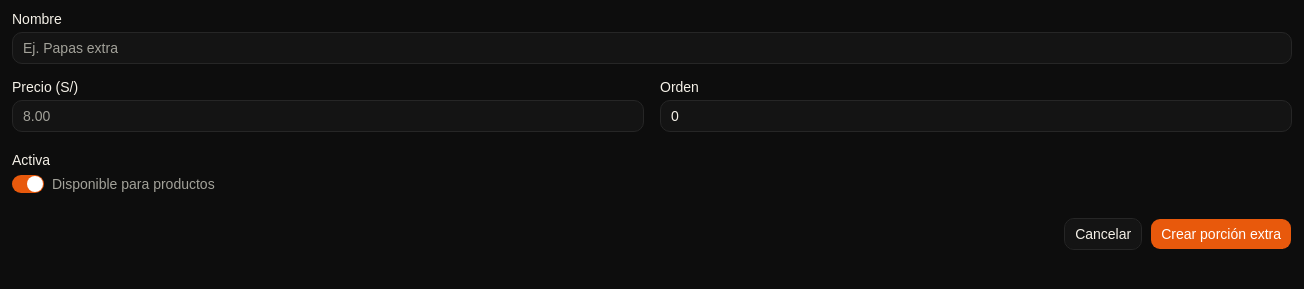
Test: ExtraPortionForm › rechaza un precio negativo escrito directamente (bypass del spinner nativo)
The image size is (1304, 289).
Type "Guacamole extra" into the field labelled "Nombre" at (652, 48), box [12, 32, 1292, 64]
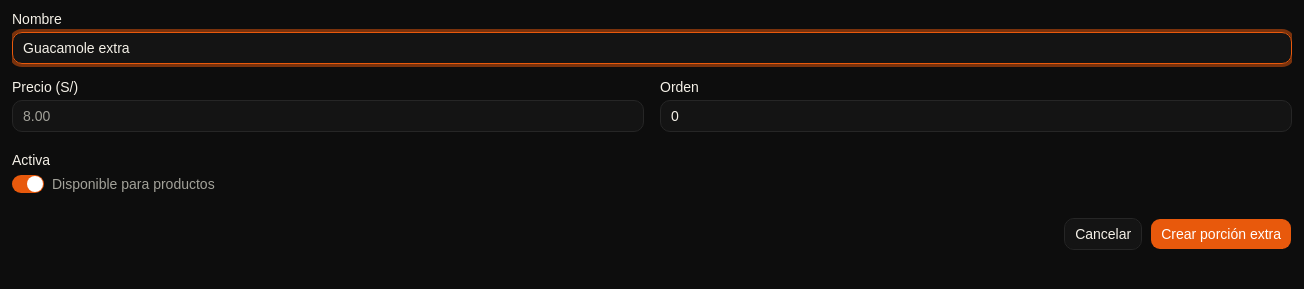
Type "-5" into the number field labelled "Precio (S/)" at (328, 116), box [12, 100, 644, 132]
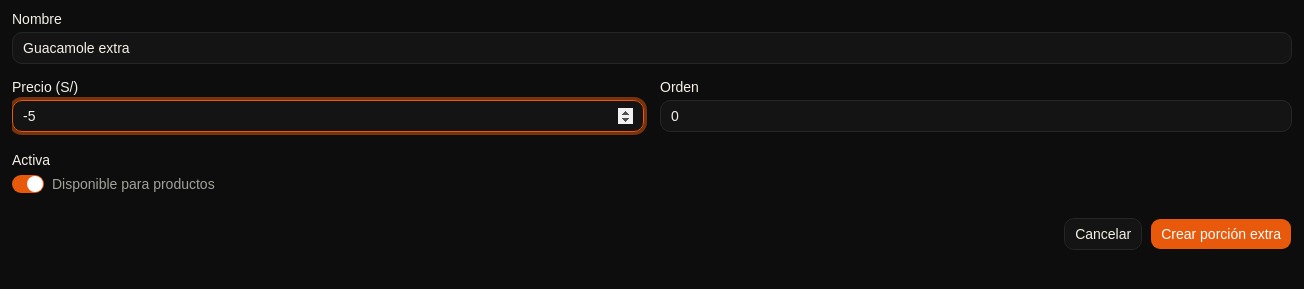
Click the button "Crear porción extra" at (1221, 234), box [1150, 218, 1292, 250]
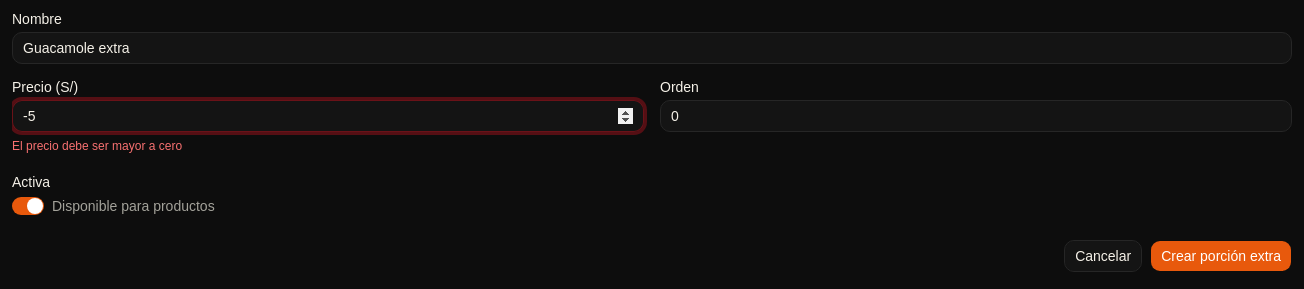
Now the text "El precio debe ser mayor a cero" is shown, box [12, 139, 182, 153]
